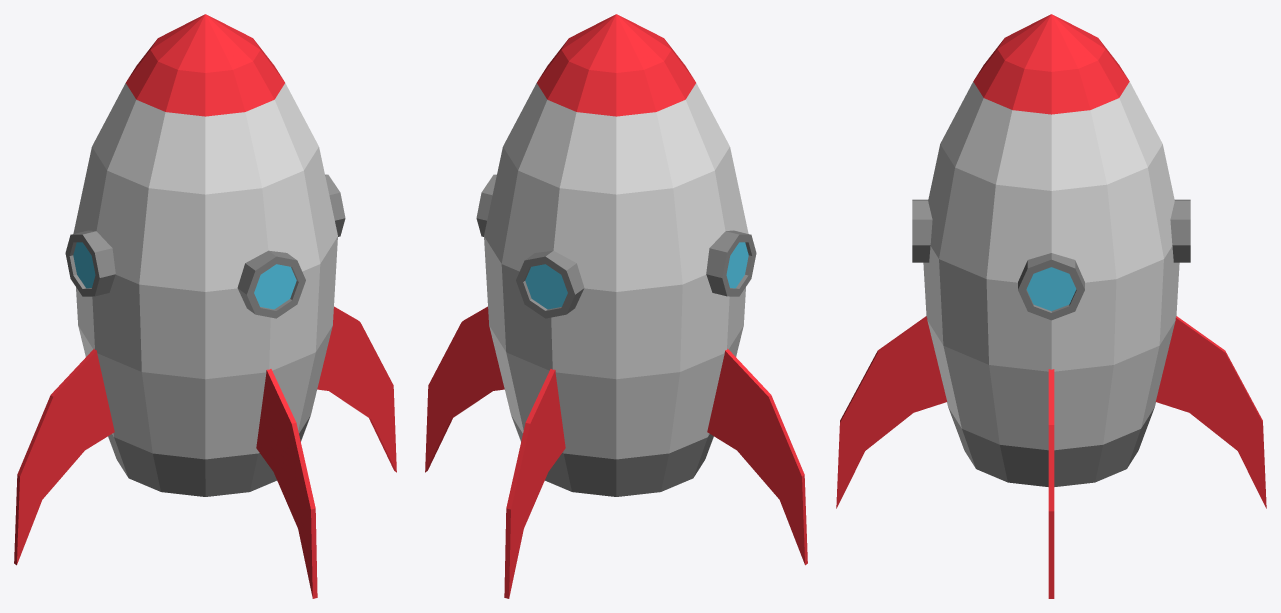
File: Low_Poly_Spaceship_005.fbx
The picture shows the model from 3 angles, left to right: view 1: azimuth 30°, elevation 25°; view 2: azimuth 150°, elevation 25°; view 3: azimuth 270°, elevation 25°; orthographic projection. The views are drawn at different scales.
Visible parts, largest first — view 1: Low_Poly_Spaceship_005.001; view 2: Low_Poly_Spaceship_005.001; view 3: Low_Poly_Spaceship_005.001.
Part boxes in pixels (x1=…): Low_Poly_Spaceship_005.001: x1=14, y1=14, x2=396, y2=598; Low_Poly_Spaceship_005.001: x1=425, y1=14, x2=807, y2=598; Low_Poly_Spaceship_005.001: x1=836, y1=14, x2=1266, y2=598.
Bounding box in the file's own units: 640 × 812 × 640.
